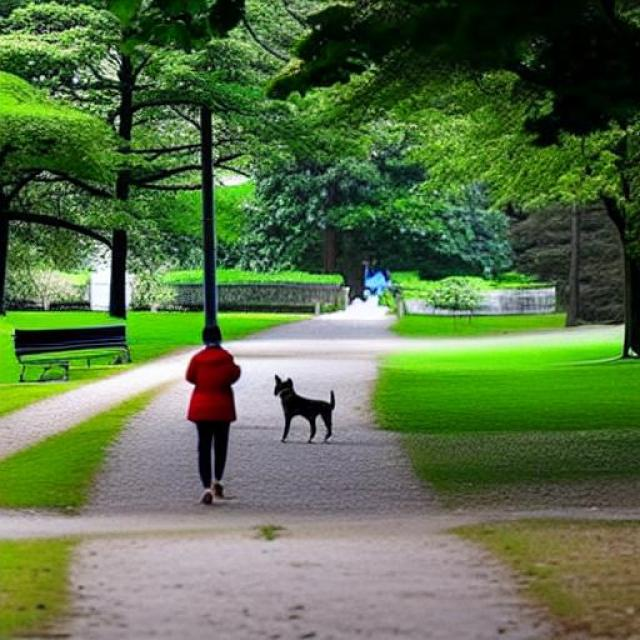Unleashed_Dog: (198, 374, 336, 443)
